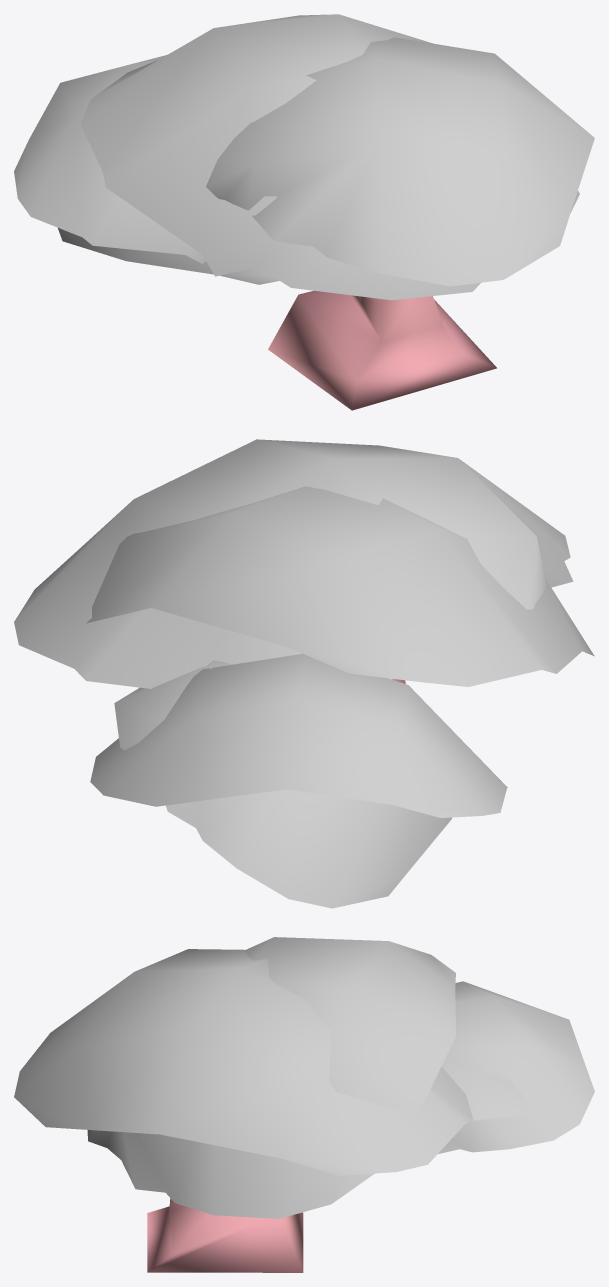
Rendered from frangipanier.fbx.
3 renders of one model, top to bottom at view 1: azimuth 30°, elevation 25°; view 2: azimuth 150°, elevation 25°; view 3: azimuth 270°, elevation 25°, orthographic. The views are drawn at different scales.
Parts seen in each view (by area): view 1: frangipanier.002, frangipanier; view 2: frangipanier.002; view 3: frangipanier.002, frangipanier.
Part boxes in pixels (<box>): frangipanier.002: <box>14,14,594,300</box>; frangipanier: <box>268,290,496,410</box>; frangipanier.002: <box>14,439,594,908</box>; frangipanier.002: <box>14,937,594,1218</box>; frangipanier: <box>147,1198,303,1272</box>.
Size of the model in its own units: 471 by 298 by 566.
